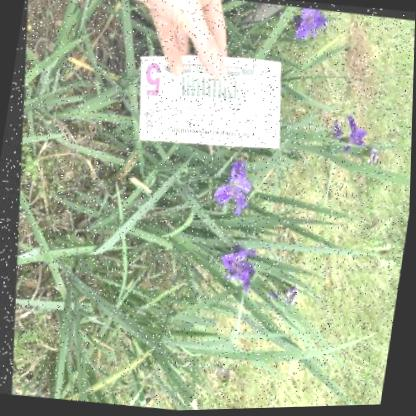vef_back: (135, 54, 279, 149)
